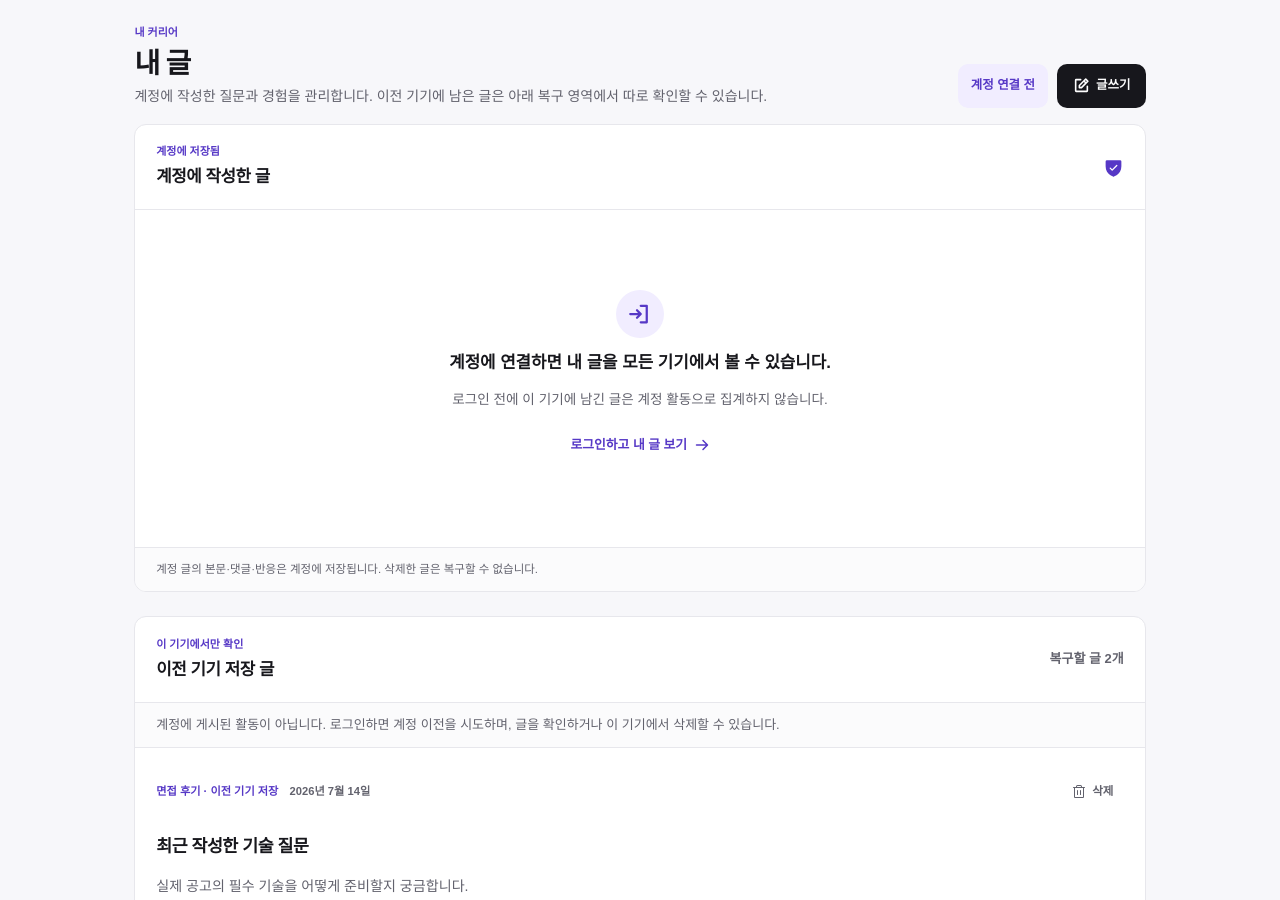
Test: AuthoredQuestions › keeps a question visible when interaction cleanup cannot be persisted
Click the button with aria-label "최근 작성한 기술 질문 삭제" at (1092, 792), box [1061,770,1124,814]
(page scrolled)
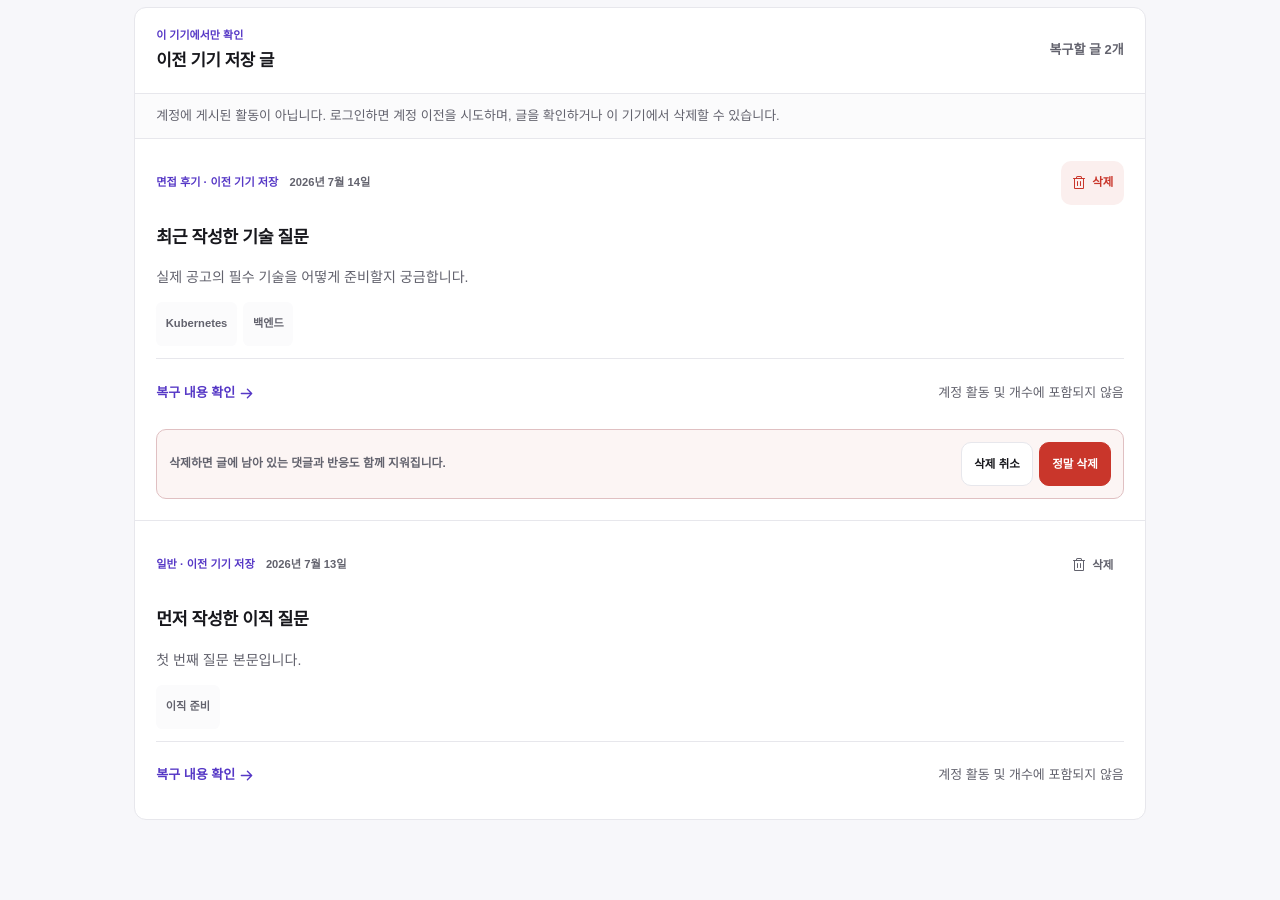
Click the button "정말 삭제" at (1075, 464), box [1039,442,1111,486]
(page scrolled)
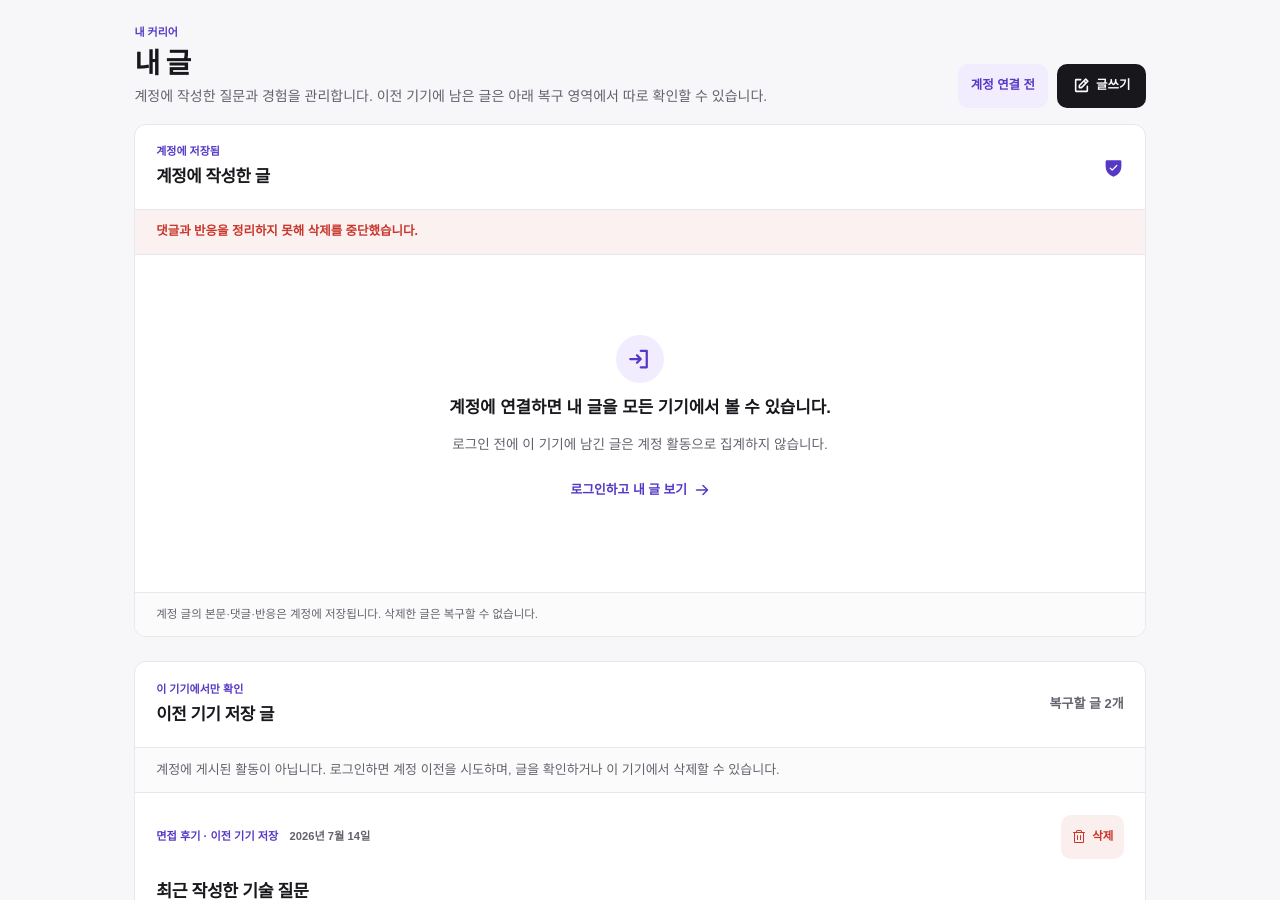
Check: the message reads "댓글과 반응을 정리하지 못해 삭제를 중단했습니다.", box [156,224,418,238]
